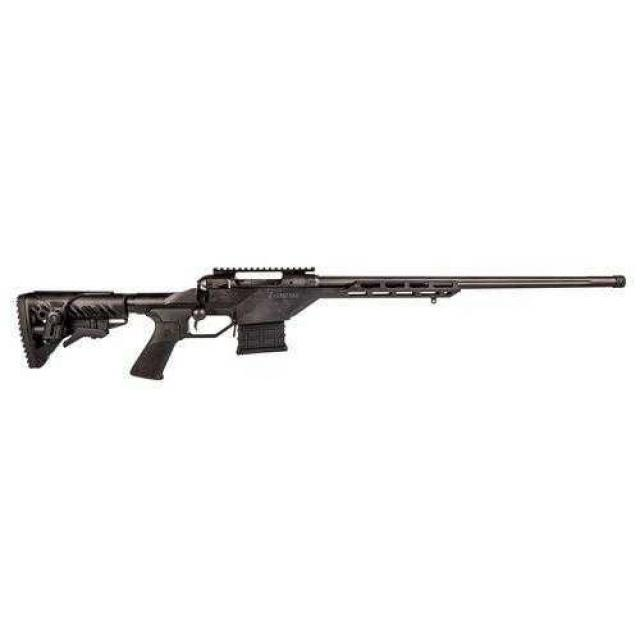weapon: (1, 238, 639, 402)
